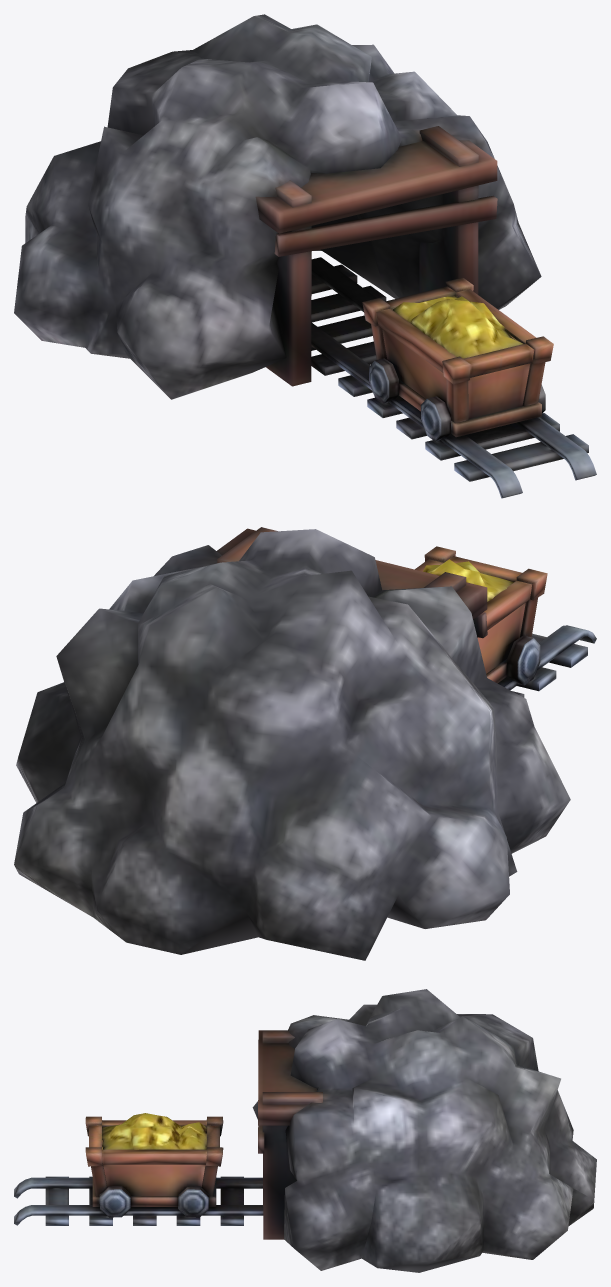
File: Mine.glb
3 renders of one model, top to bottom at view 1: azimuth 30°, elevation 25°; view 2: azimuth 150°, elevation 25°; view 3: azimuth 270°, elevation 25°, orthographic. The views are drawn at different scales.
Visible parts, largest first — view 1: low; view 2: low; view 3: low.
Part boxes in pixels (left/top/right/bottom): low: left=14, top=14, right=596, bottom=498; low: left=14, top=527, right=596, bottom=960; low: left=14, top=989, right=596, bottom=1272.
Bounding box in the file's own units: 0.8944 × 0.5098 × 1.31.
1 material, 1 textured.
